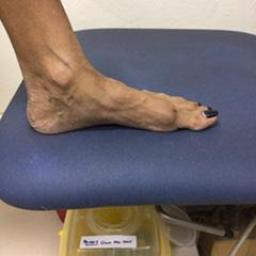Medial View -Left Foot-: (6, 45, 228, 145)
